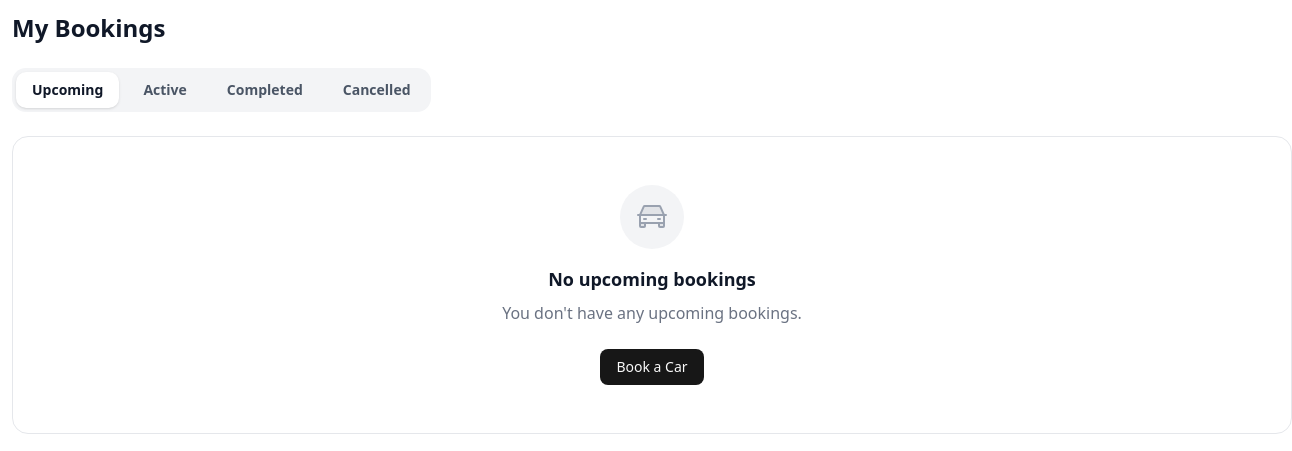
Test case: TripsSection › switches tabs and shows empty state
The image size is (1292, 451).
Check: the heading "My Bookings" is shown, box x1=12 y1=12 x2=166 y2=44
Click the button "active": (165, 90) x1=127 y1=72 x2=203 y2=108
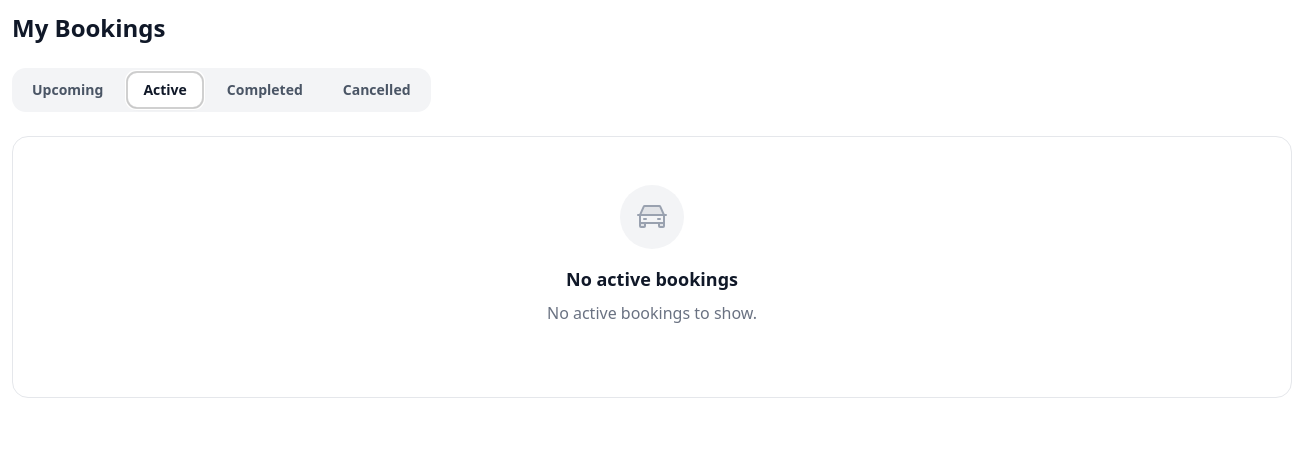
Check: the heading "No active bookings" is shown, box x1=566 y1=267 x2=738 y2=291
